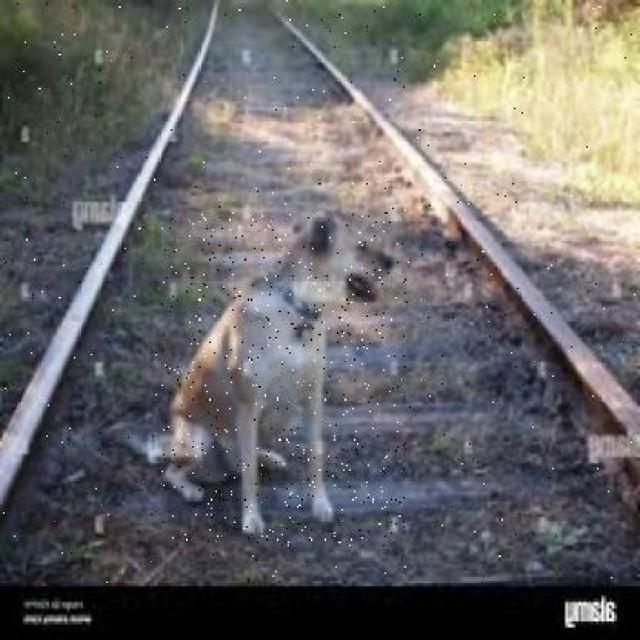rail: (4, 1, 638, 584)
